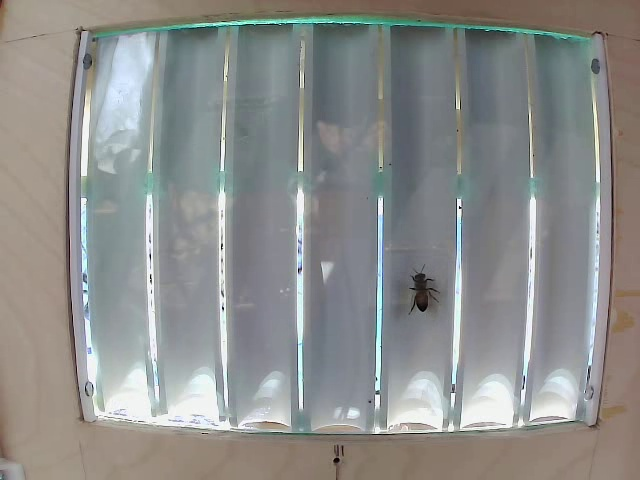bee: (393, 253, 445, 316)
